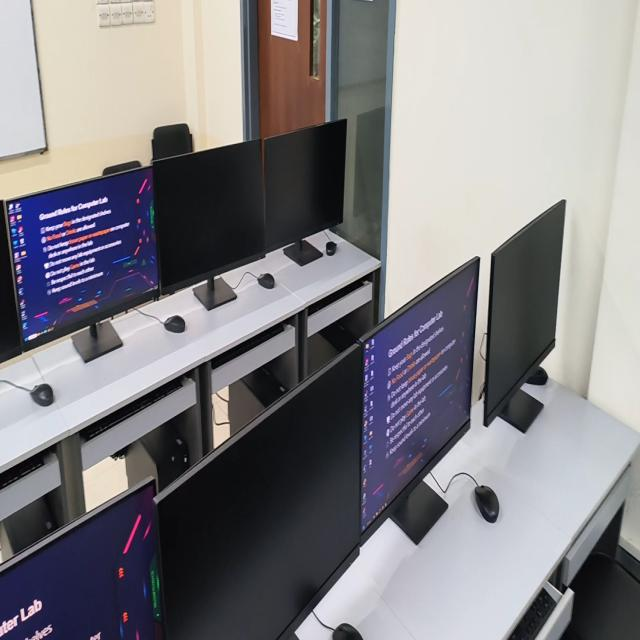Chair: (561, 552, 640, 639), (152, 123, 193, 161), (102, 160, 142, 176)
Cpu: (125, 422, 189, 491), (228, 367, 286, 436), (308, 315, 362, 380), (0, 498, 56, 554)
Keyboard: (80, 376, 185, 441), (211, 321, 286, 369), (308, 274, 372, 317), (509, 588, 556, 639), (0, 451, 45, 489)
Monitor: (157, 344, 363, 639), (361, 258, 479, 544), (6, 167, 160, 361), (0, 478, 164, 639), (483, 200, 565, 433), (152, 140, 264, 309), (263, 119, 347, 269), (0, 200, 22, 362)
Mouse: (475, 485, 499, 522), (30, 383, 54, 406), (332, 623, 363, 639), (526, 366, 548, 385), (164, 315, 185, 333), (258, 273, 275, 289), (326, 241, 337, 255)
